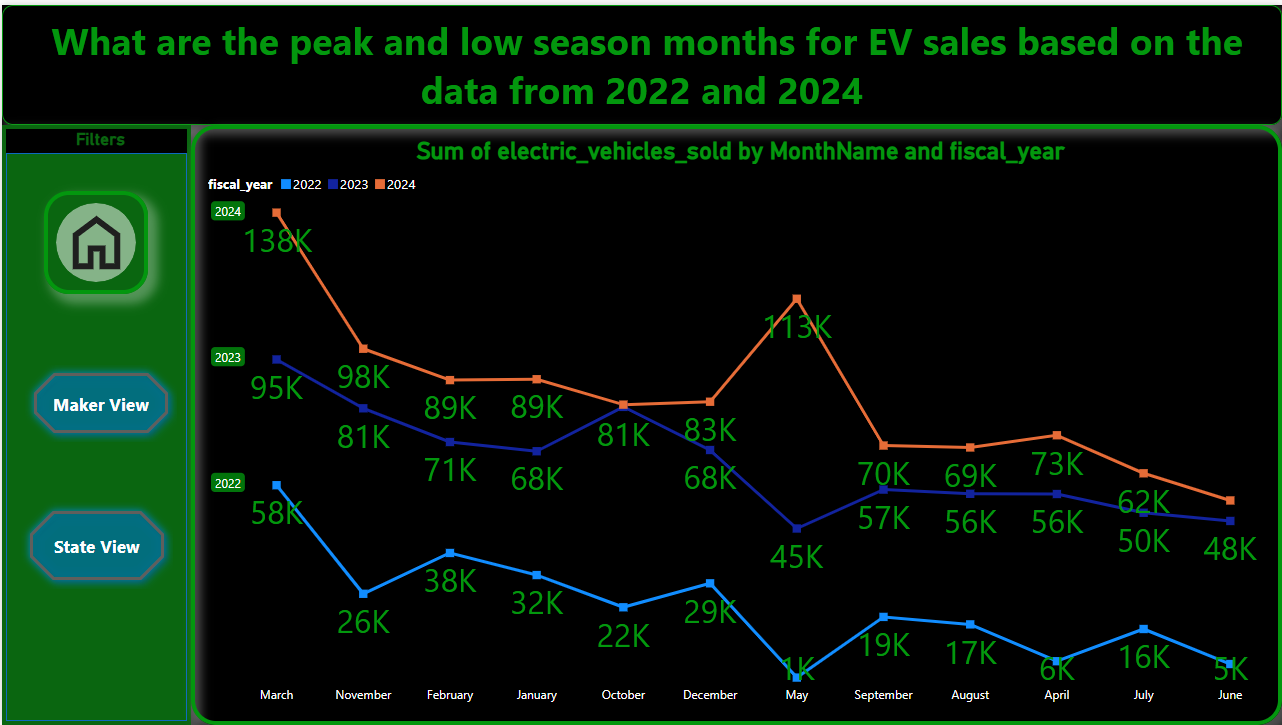

The dashboard page shown, as its layout file describes it:
{"tool":"powerbi","page":{"name":"q-7","canvas":[1280,720],"ordinal":9},"visuals":[{"type":"textbox","box":[0,0,1280,120],"z":0},{"type":"shape","title":"Filters","box":[0,120,188.9,600],"z":1000},{"type":"actionButton","box":[22.9,359.5,152.5,77.3],"z":3000},{"type":"actionButton","box":[42.5,186.3,103.5,102.4],"z":4000},{"type":"actionButton","box":[18.5,496.7,152.5,87.1],"z":5000},{"type":"lineChart","fields":{"Y":["Sum(electric_vehicle_sales_by_state.electric_vehicles_sold)"],"Category":["dim_date.MonthName"],"Series":["dim_date.fiscal_year"]},"box":[189,120,1091,600],"z":6001}]}

Visuals, with their boxes in screenshot pixels (x1, y1, x2, y2), scaled from the page's 1280x720 canvas onto the 1282x725 screenshot:
textbox: <region>0, 0, 1281, 121</region>
"Filters" shape: <region>0, 121, 189, 724</region>
actionButton: <region>23, 362, 176, 440</region>
actionButton: <region>43, 188, 146, 291</region>
actionButton: <region>19, 500, 171, 588</region>
lineChart - Sum(electric_vehicle_sales_by_state.electric_vehicles_sold) x dim_date.MonthName: <region>189, 121, 1281, 724</region>
